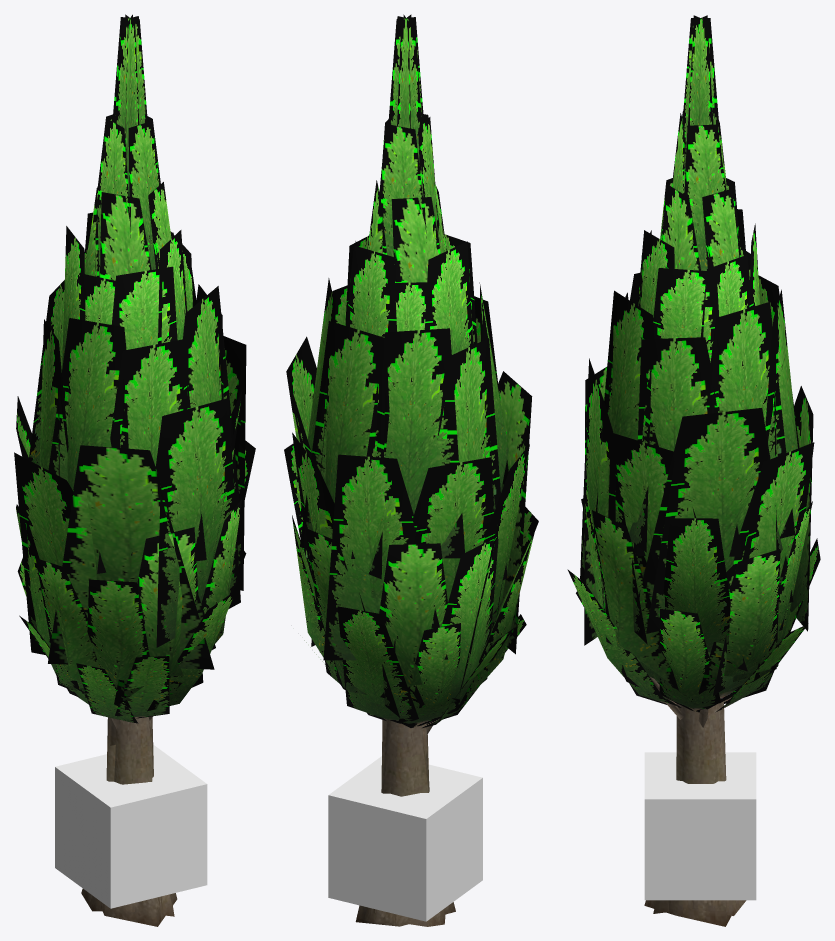
File: plants_me_tree_cypress02.gltf
3 renders of one model, left to right at view 1: azimuth 30°, elevation 25°; view 2: azimuth 150°, elevation 25°; view 3: azimuth 270°, elevation 25°, orthographic.
Visible parts, largest first — view 1: um_plants_me_tree_cypress02_model_lod0Shape:plants_me_tree_c (×2), um_plants_me_tree_cypress02_model_lod1Shape:plants_me_tree_c (×2), um_plants_me_tree_cypress02_model_lod0Shape:objects_tree_dec; view 2: um_plants_me_tree_cypress02_model_lod0Shape:plants_me_tree_c (×2), um_plants_me_tree_cypress02_model_lod1Shape:plants_me_tree_c (×2), um_plants_me_tree_cypress02_model_lod0Shape:objects_tree_dec; view 3: um_plants_me_tree_cypress02_model_lod0Shape:plants_me_tree_c (×2), um_plants_me_tree_cypress02_model_lod1Shape:plants_me_tree_c (×2), um_plants_me_tree_cypress02_model_lod0Shape:objects_tree_dec.
Part boxes in pixels (left/top/right/bottom): um_plants_me_tree_cypress02_model_lod0Shape:plants_me_tree_c (×2): left=14, top=14, right=246, bottom=916; um_plants_me_tree_cypress02_model_lod1Shape:plants_me_tree_c (×2): left=14, top=114, right=255, bottom=926; um_plants_me_tree_cypress02_model_lod0Shape:objects_tree_dec: left=55, top=745, right=207, bottom=908; um_plants_me_tree_cypress02_model_lod0Shape:plants_me_tree_c (×2): left=286, top=14, right=534, bottom=926; um_plants_me_tree_cypress02_model_lod1Shape:plants_me_tree_c (×2): left=284, top=114, right=538, bottom=926; um_plants_me_tree_cypress02_model_lod0Shape:objects_tree_dec: left=328, top=756, right=482, bottom=921; um_plants_me_tree_cypress02_model_lod0Shape:plants_me_tree_c (×2): left=567, top=15, right=814, bottom=915; um_plants_me_tree_cypress02_model_lod1Shape:plants_me_tree_c (×2): left=580, top=111, right=820, bottom=926; um_plants_me_tree_cypress02_model_lod0Shape:objects_tree_dec: left=644, top=752, right=756, bottom=900.
Size of what is drawn, in the model's own units: 2.28 by 8.81 by 2.27.
Materials: 3 (2 with a texture image).
